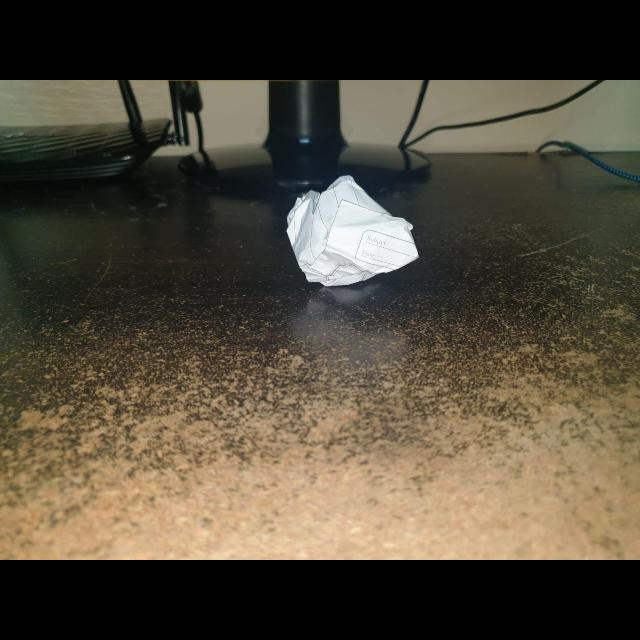scrap_paper: (282, 170, 420, 298)
